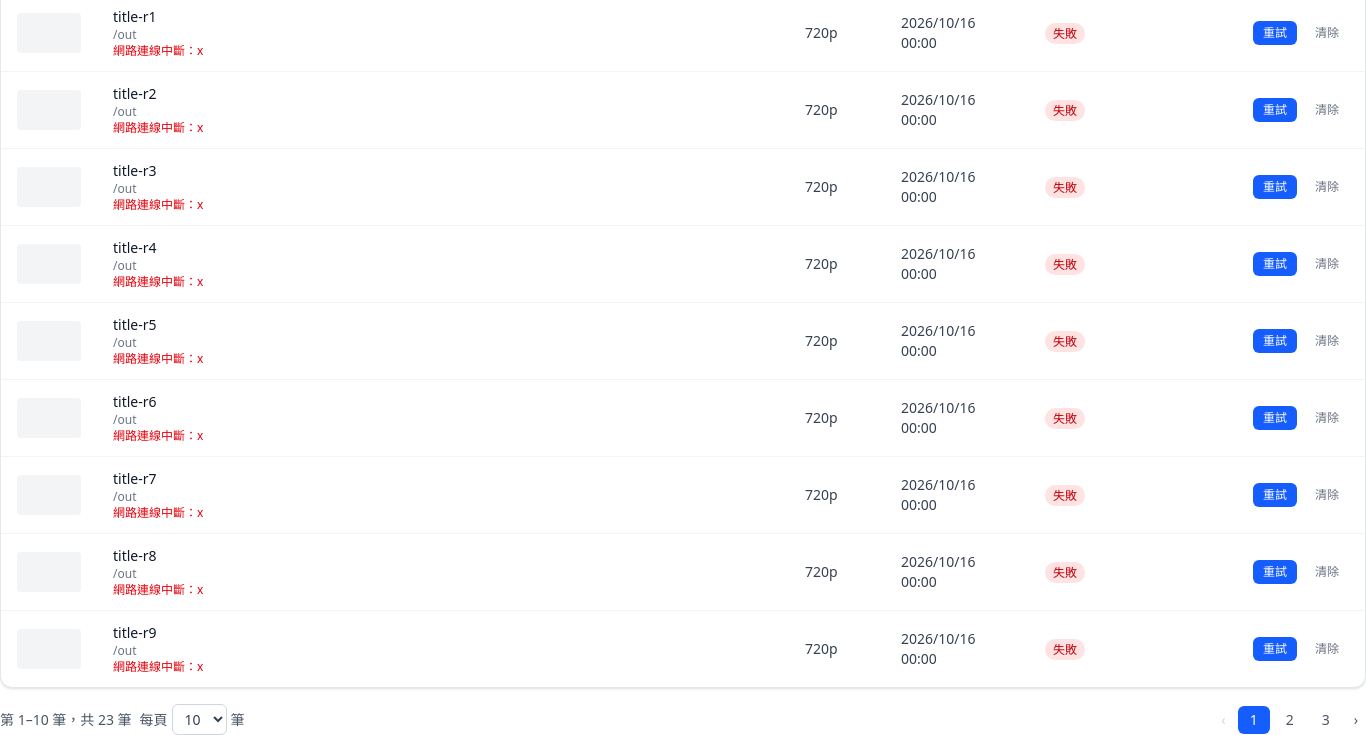
HistoryPage pagination › shows 10 per page and switches pages
The width and height of the screenshot is (1366, 735).
(page scrolled)
Expected: the text with test id "page-range" reads "第 1–10 筆，共 23 筆", left=0, top=710, right=132, bottom=728
Click the button "3".
click(1326, 720)  # box left=1310, top=706, right=1342, bottom=734
(page scrolled)
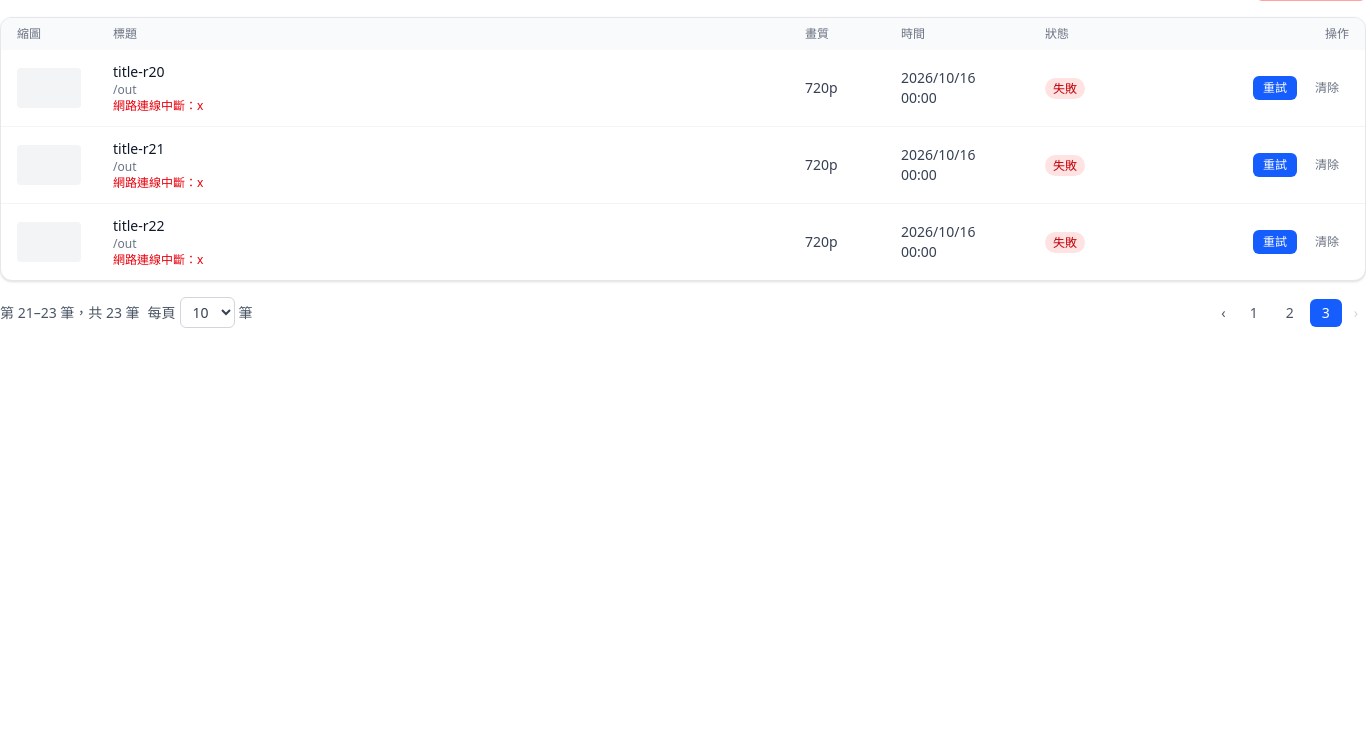
Expected: the button "3" is shown, left=1310, top=298, right=1342, bottom=326
Click the button named "上一頁".
click(1223, 312)  # box left=1213, top=298, right=1234, bottom=326
(page scrolled)
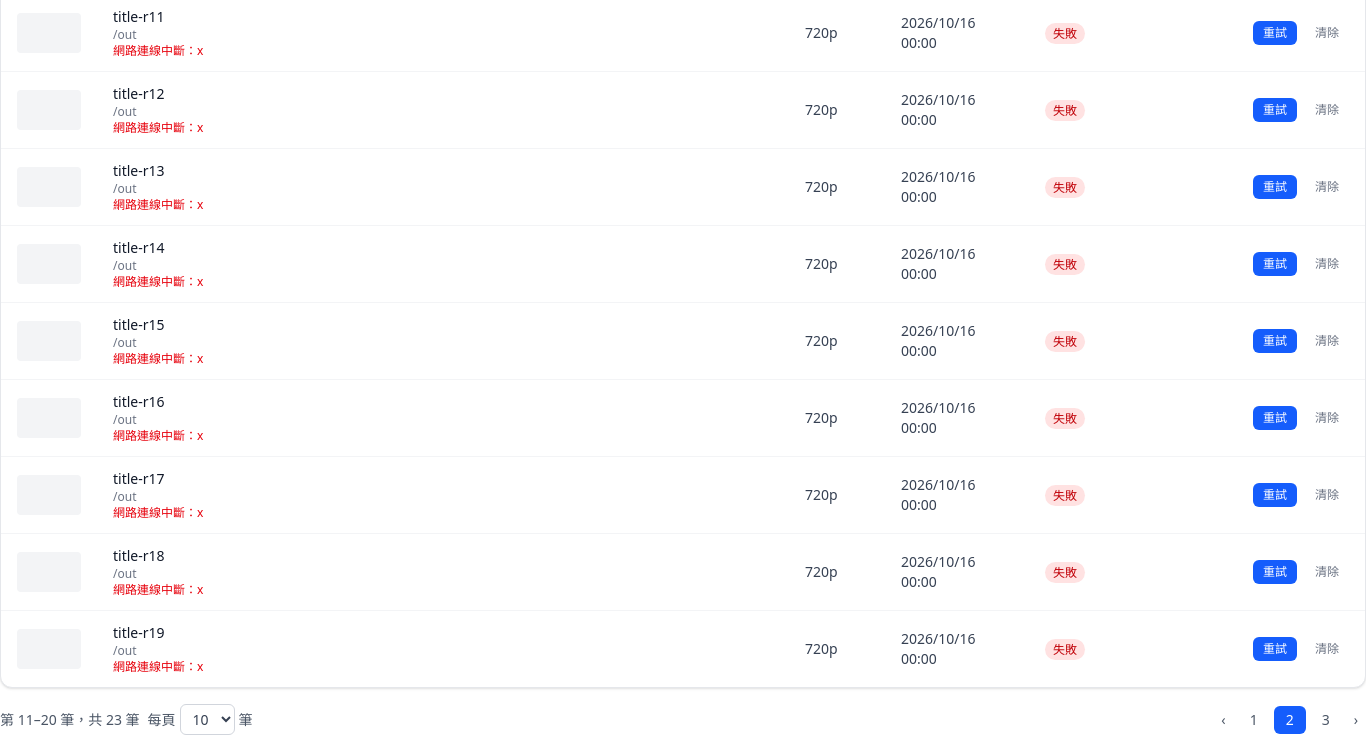
Expected: the text with test id "page-range" reads "第 11–20 筆，共 23 筆", left=0, top=710, right=140, bottom=728
